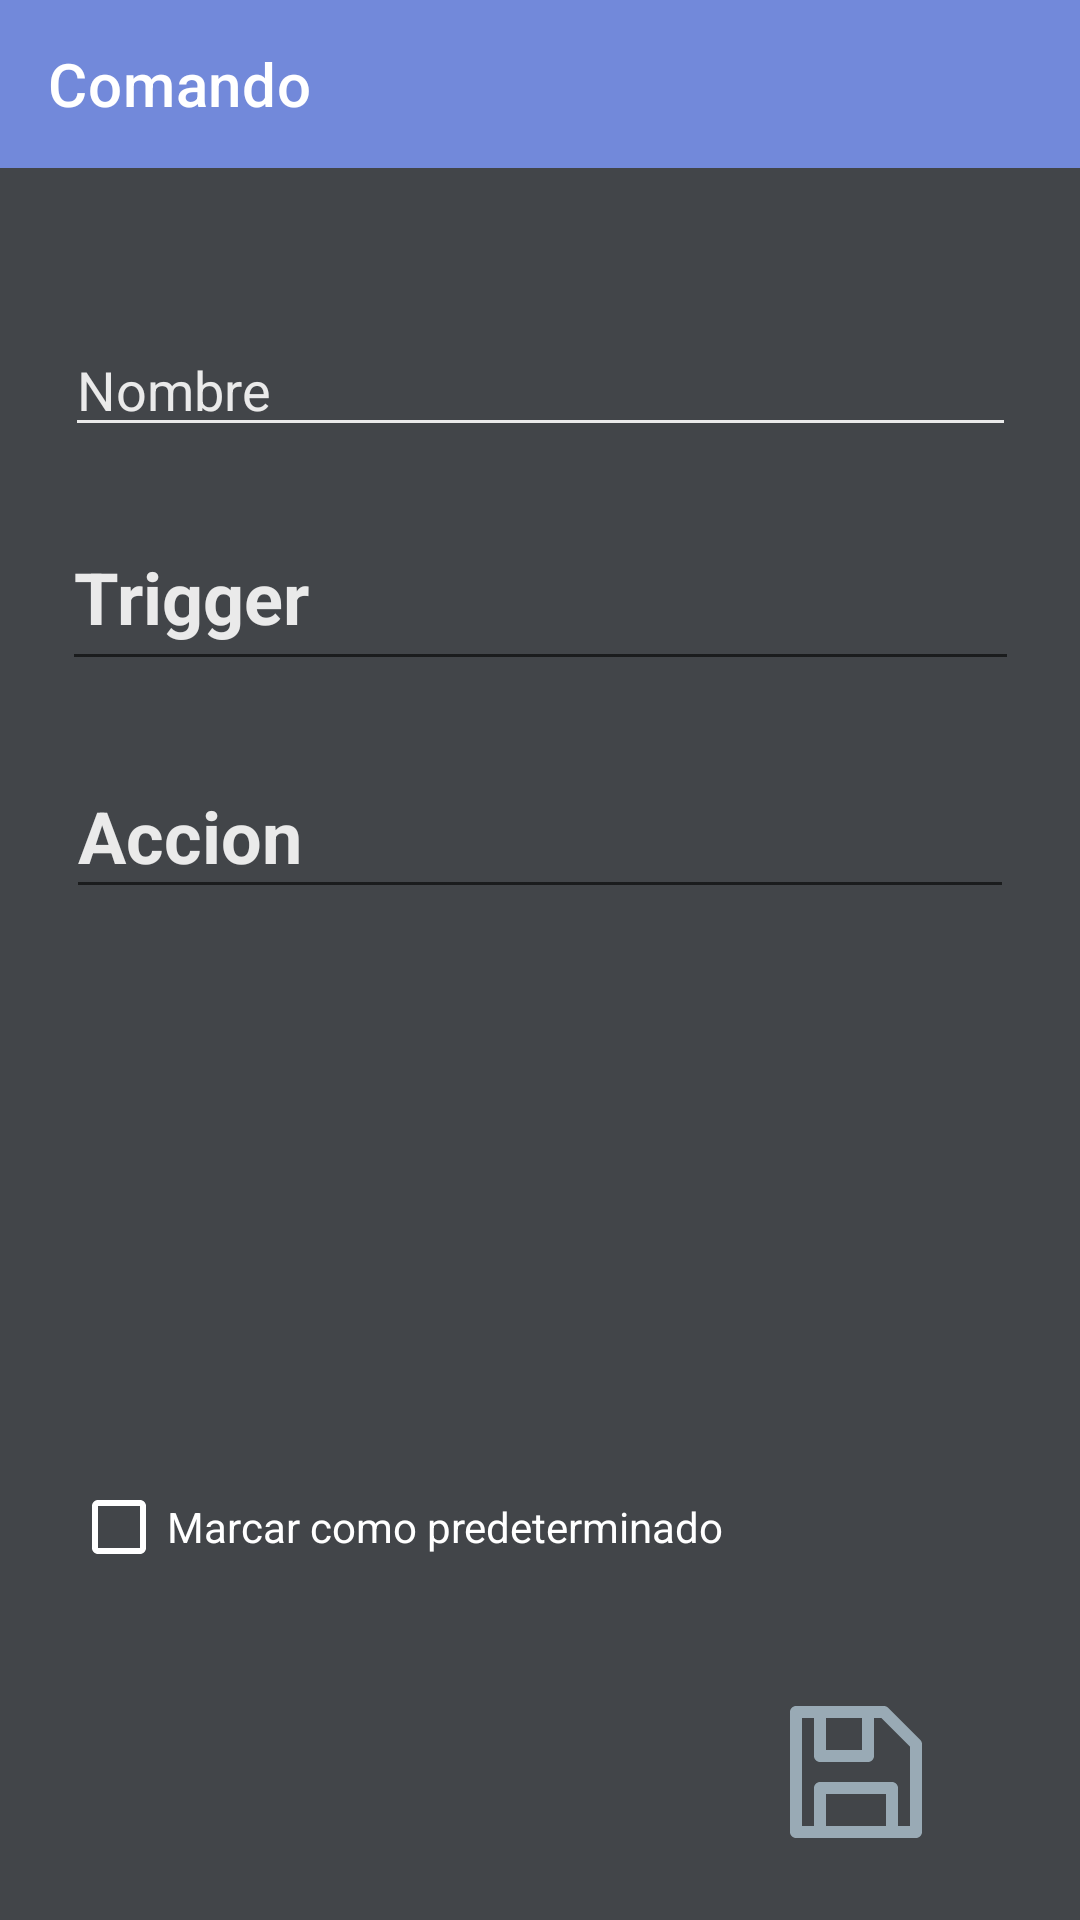

Icon click points for this 1080px x 1920px phone screenshot, format point (x, y):
save: point (856, 1772)
